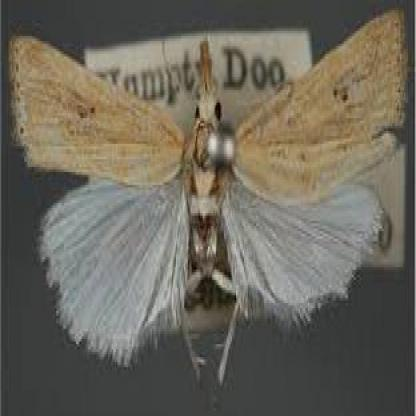stem-borer: (8, 6, 412, 390)
